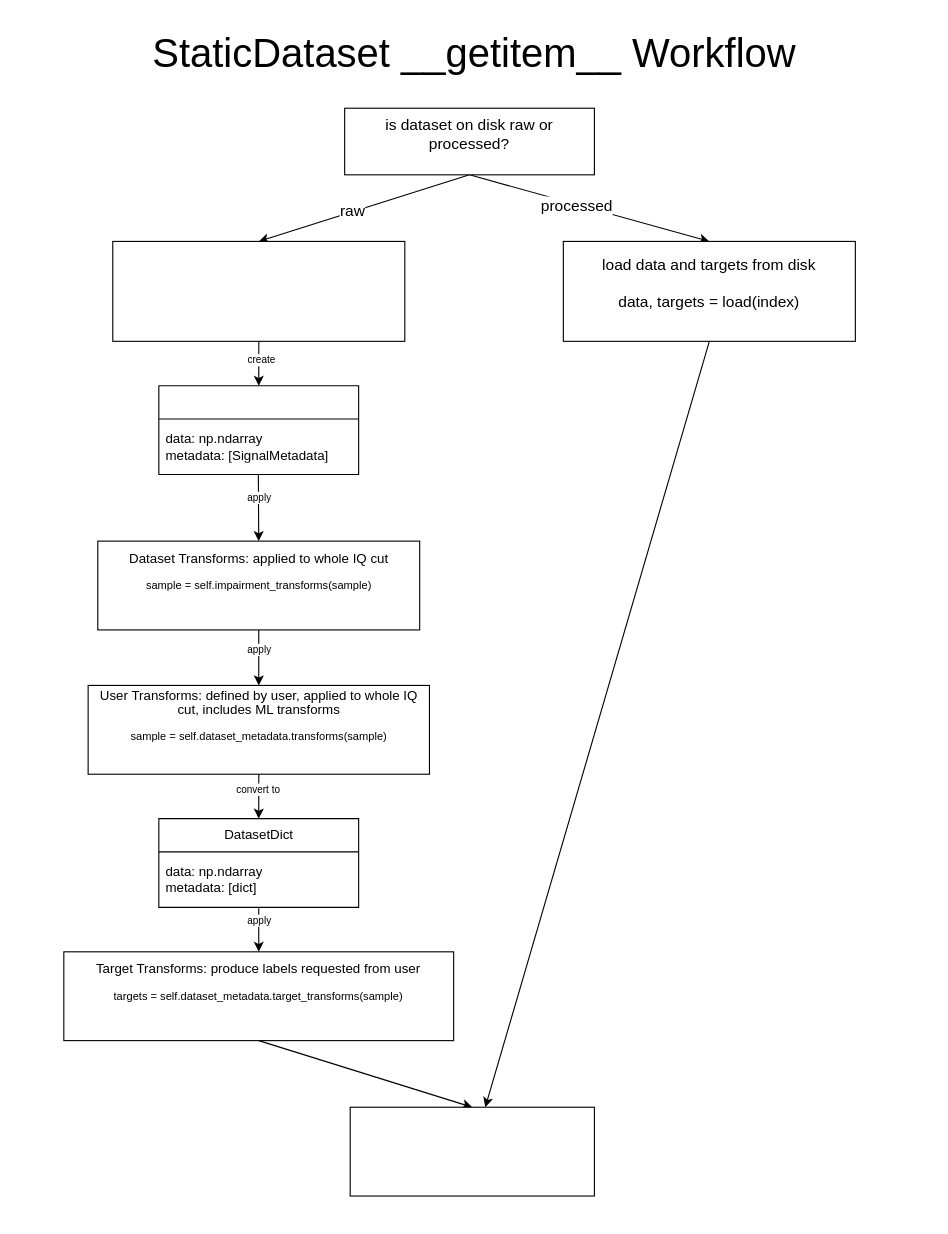
Some shapes in this 948 by 1234 pixel diagram are drawn without their labels. The shapes that lost their labels are listed below. From the top down, each one's box as (x1, y1, x2, y2) in pixels, then its label:
(112, 240, 405, 341): load IQ data and signal metadata from disk data, signal_metadatas = load(index)
(158, 385, 359, 475): DatasetSignal
(349, 1106, 594, 1196): return data, targets
